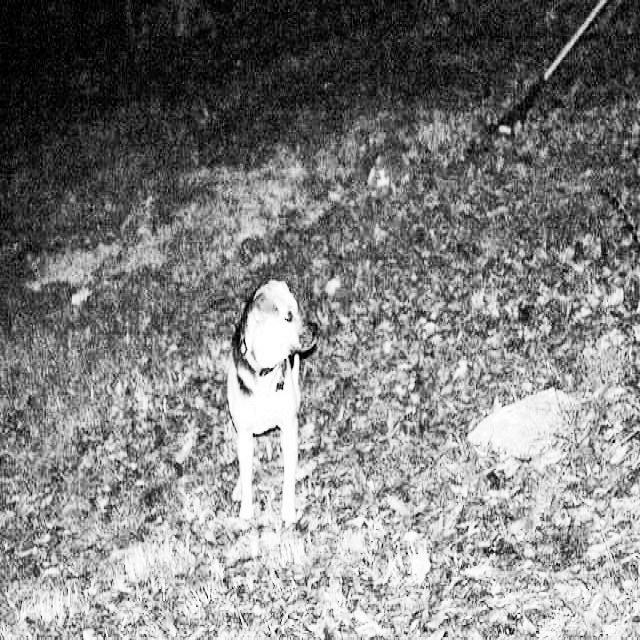Dog: (155, 242, 332, 556)
